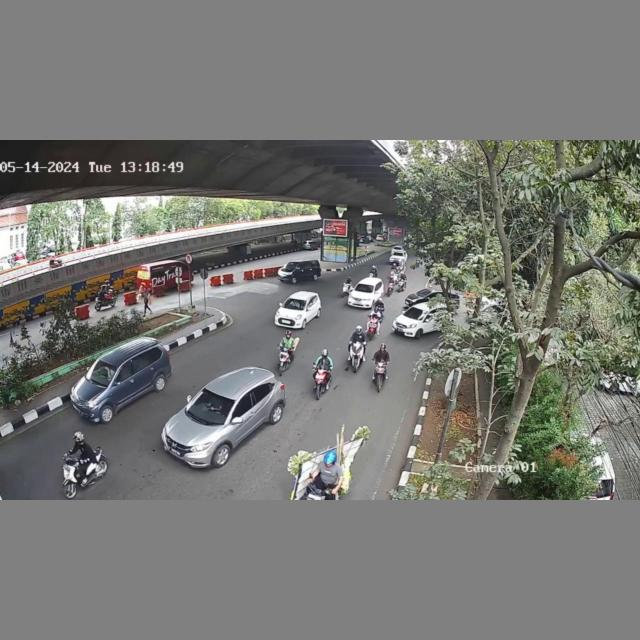windshield: (185, 386, 236, 427), (84, 358, 117, 390), (282, 297, 306, 311)
